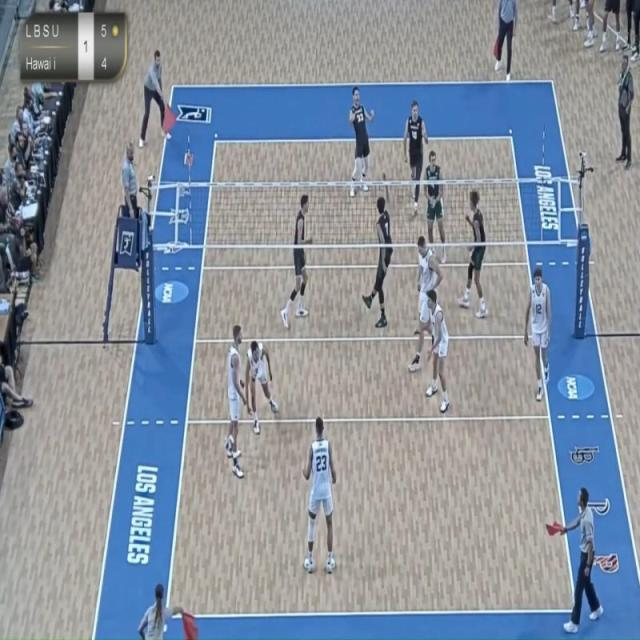volleyball: (224, 431, 236, 453)
